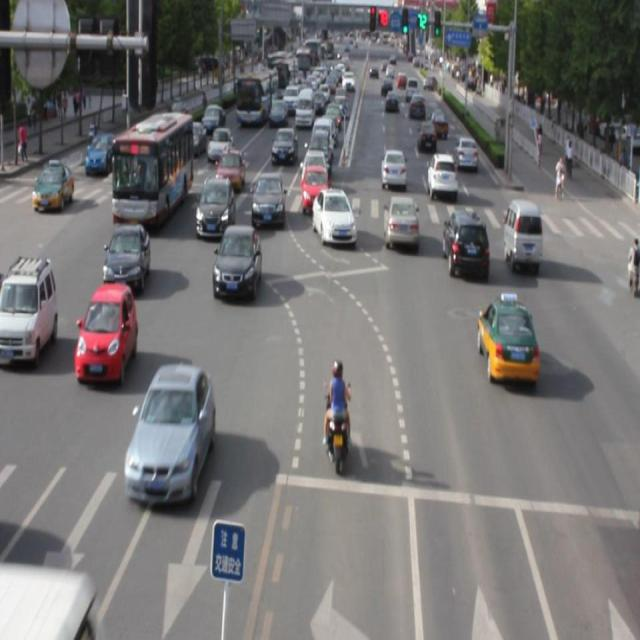car: (123, 360, 214, 500), (76, 281, 137, 382), (476, 296, 537, 382), (214, 222, 258, 295), (442, 210, 488, 277), (105, 225, 150, 289), (310, 188, 357, 246), (197, 178, 232, 236), (383, 195, 418, 248), (252, 173, 285, 228)
truck: (503, 198, 542, 268)
van: (113, 112, 192, 228), (1, 562, 99, 640)
